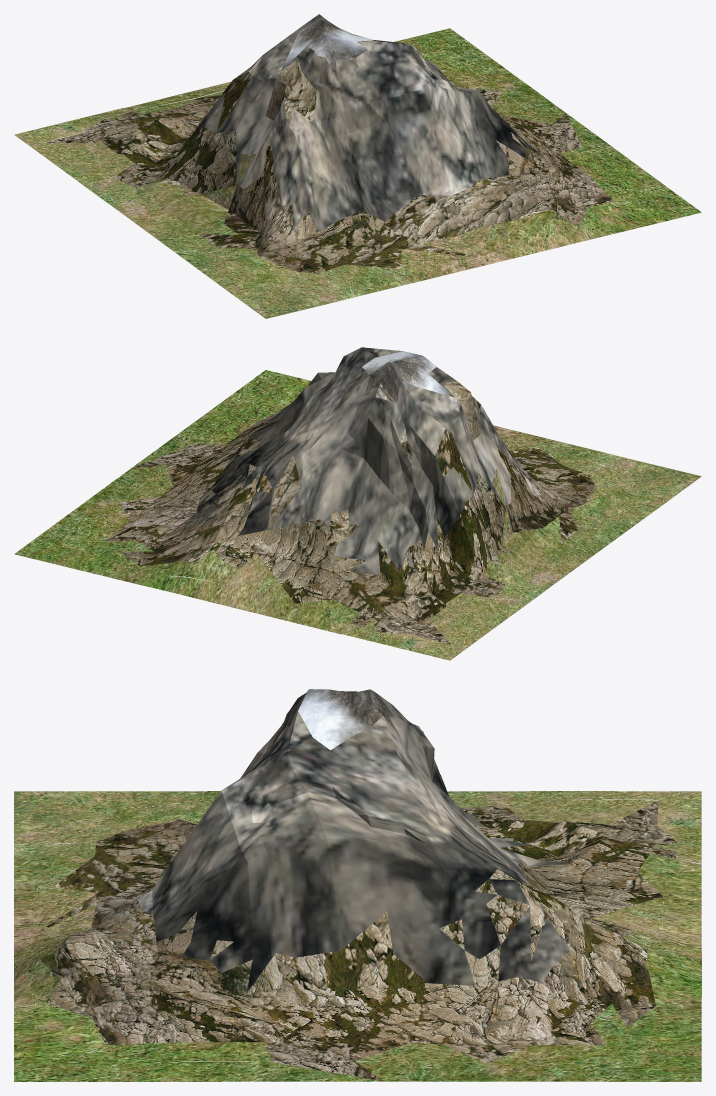
File: mountain_highres.obj
The picture shows the model from 3 angles, top to bottom: view 1: azimuth 30°, elevation 25°; view 2: azimuth 150°, elevation 25°; view 3: azimuth 270°, elevation 25°; orthographic projection. The views are drawn at different scales.
Parts seen in each view (by area): view 1: Mountain_Plane.002; view 2: Mountain_Plane.002; view 3: Mountain_Plane.002.
Boxes of the visible parts, x1,y1,x2,y2 form: Mountain_Plane.002: [14, 14, 701, 318]; Mountain_Plane.002: [14, 347, 701, 660]; Mountain_Plane.002: [14, 689, 701, 1081].
Bounding box in the file's own units: 2 × 0.7309 × 2.
